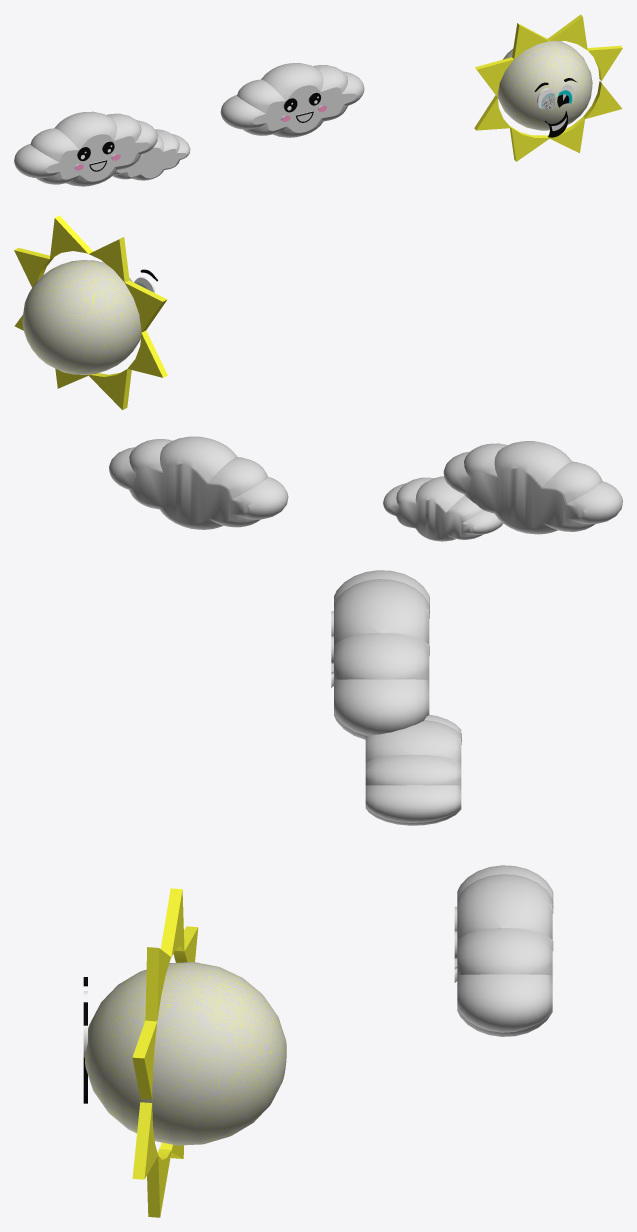
Rendered from sunandclouds.dae.
3 renders of one model, top to bottom at view 1: azimuth 30°, elevation 25°; view 2: azimuth 150°, elevation 25°; view 3: azimuth 270°, elevation 25°, orthographic. The views are drawn at different scales.
Parts seen in each view (by area): view 1: Component_5 (×2), Component_8, group_3, Component_6; view 2: Component_5 (×2), Component_8, group_3, Component_6; view 3: Component_5 (×2), Component_8, Component_6, group_3.
Part boxes in pixels (x1,y1,x2,y2): Component_5 (×2): (14,63,364,186); Component_8: (497,38,592,130); group_3: (474,14,622,161); Component_6: (112,129,190,180); Component_5 (×2): (109,436,622,534); Component_8: (22,260,141,374); group_3: (14,215,167,409); Component_6: (383,476,502,541); Component_5 (×2): (331,570,553,1036); Component_8: (84,962,286,1145); Component_6: (365,714,461,825); group_3: (132,888,198,1217).
Bounding box in the file's own units: 2040 × 762 × 492.
